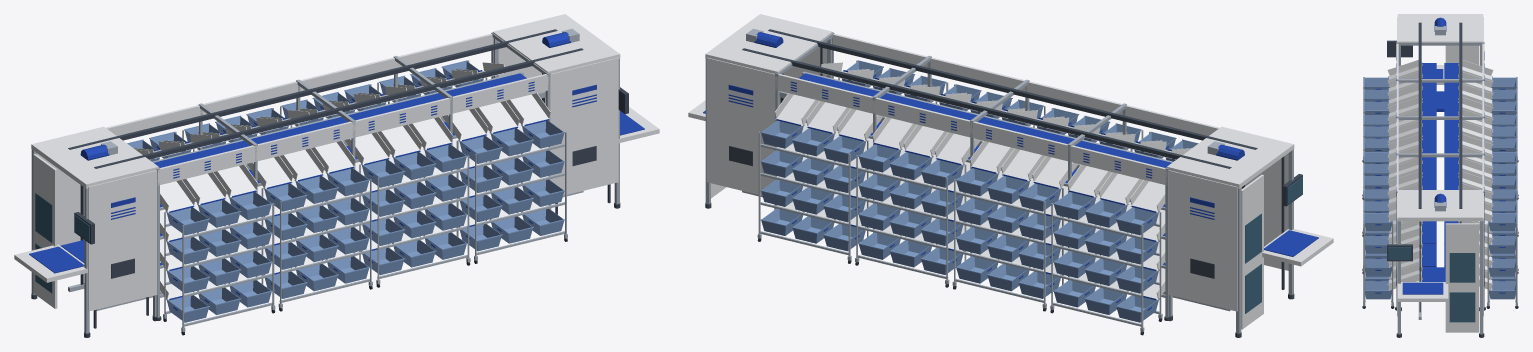
File: SM_MPR_Tiangong96.fbx
3 views of the same model, side by side, from view 1: azimuth 30°, elevation 25°; view 2: azimuth 150°, elevation 25°; view 3: azimuth 270°, elevation 25° (orthographic). The views are drawn at different scales.
Parts seen in each view (by area): view 1: SM_MPR_Tiangong96; view 2: SM_MPR_Tiangong96; view 3: SM_MPR_Tiangong96.
Boxes of the visible parts, x1=… form: SM_MPR_Tiangong96: x1=14, y1=14, x2=659, y2=337; SM_MPR_Tiangong96: x1=688, y1=14, x2=1333, y2=337; SM_MPR_Tiangong96: x1=1362, y1=14, x2=1518, y2=337.
Bounding box in the file's own units: 980 × 277 × 246.
